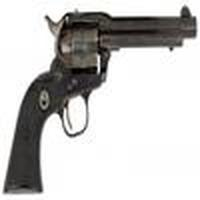gun: (4, 10, 200, 193)
